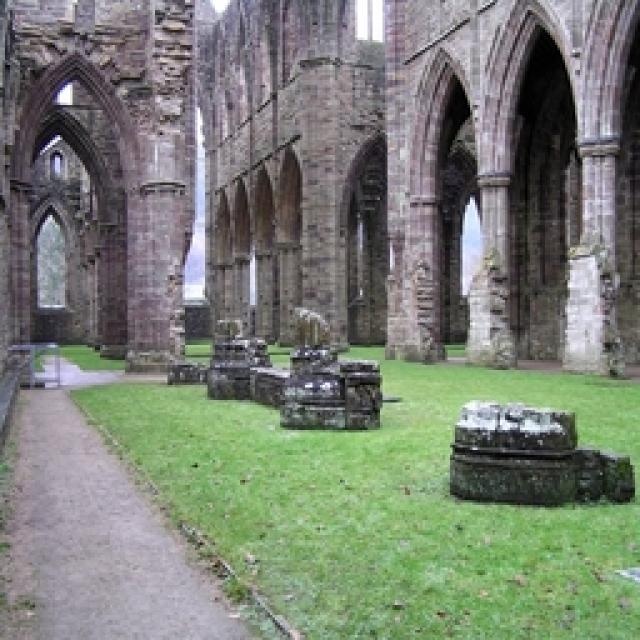Abbey: (7, 1, 640, 392)
